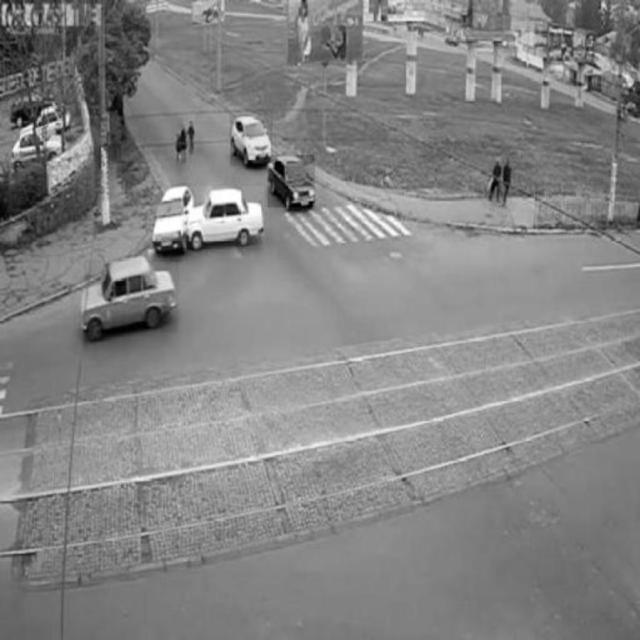accident: (147, 187, 265, 248)
person: (489, 161, 505, 207), (503, 158, 515, 208)
vehicle: (84, 261, 178, 333), (268, 155, 315, 209), (229, 117, 273, 167), (15, 128, 70, 165)
